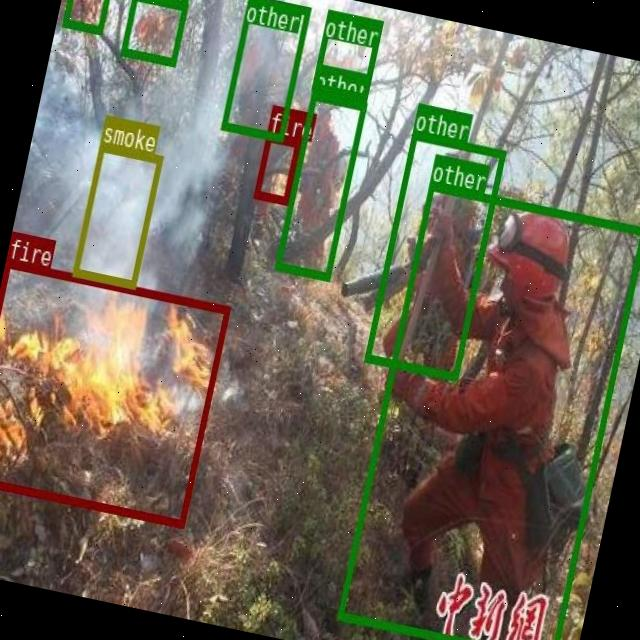fire: (0, 257, 229, 526), (252, 130, 300, 203)
smoke: (71, 142, 161, 288)
